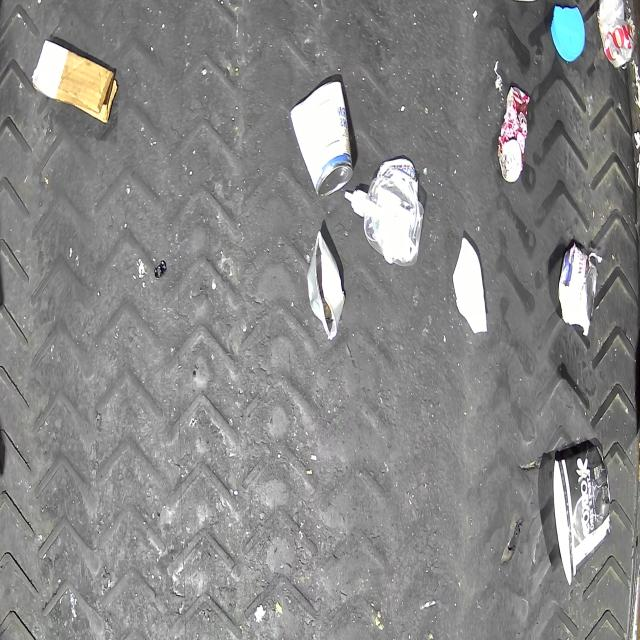can: (291, 82, 353, 198), (307, 232, 345, 340), (498, 86, 532, 184), (560, 244, 597, 328), (598, 0, 638, 73)
